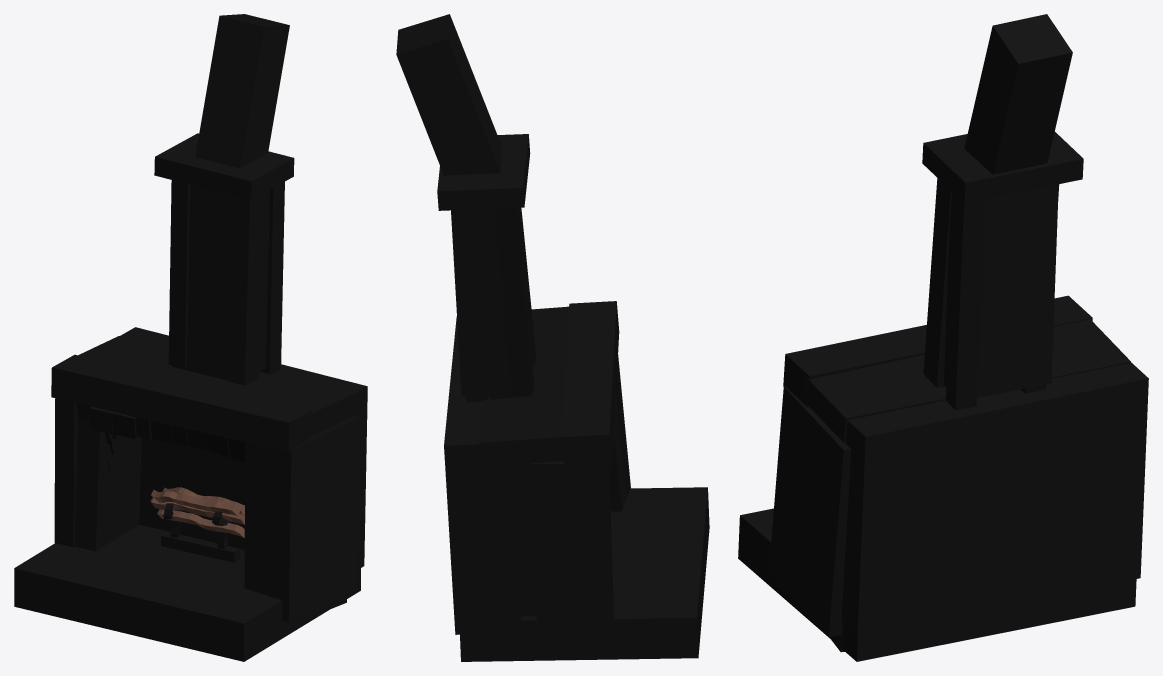
The model's file is fireplace3.glb.
3 views of the same model, side by side, from view 1: azimuth 30°, elevation 25°; view 2: azimuth 150°, elevation 25°; view 3: azimuth 270°, elevation 25° (orthographic). The views are drawn at different scales.
Visible parts, largest first — view 1: node_MeshObject2004556800-PolyPaper23, node_MeshObject1432477696-PolyPaper23; view 2: node_MeshObject2004556800-PolyPaper23, node_MeshObject1432477696-PolyPaper23; view 3: node_MeshObject2004556800-PolyPaper23, node_MeshObject1432477696-PolyPaper23.
Part boxes in pixels (box(x1,y1,x2,y2)): node_MeshObject2004556800-PolyPaper23: box(14, 14, 367, 661); node_MeshObject1432477696-PolyPaper23: box(54, 398, 359, 622); node_MeshObject2004556800-PolyPaper23: box(396, 14, 709, 661); node_MeshObject1432477696-PolyPaper23: box(512, 355, 630, 624); node_MeshObject2004556800-PolyPaper23: box(738, 14, 1148, 661); node_MeshObject1432477696-PolyPaper23: box(768, 386, 851, 652).
Bounding box in the file's own units: 1.49 × 2.64 × 1.58.
